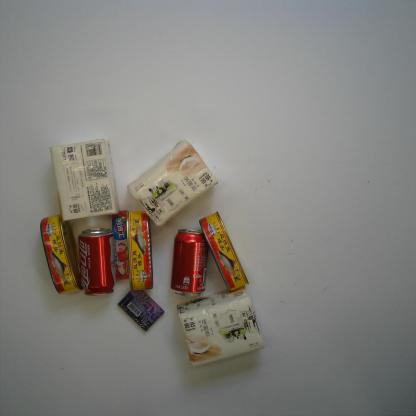Candy: (111, 210, 131, 279)
Canned Food: (198, 210, 250, 292), (39, 214, 84, 295), (126, 210, 154, 292)
Drink: (170, 228, 209, 298), (78, 228, 117, 296)
Gum: (117, 289, 165, 332)
Tissue: (127, 140, 220, 228), (176, 286, 268, 368), (49, 138, 121, 223)
